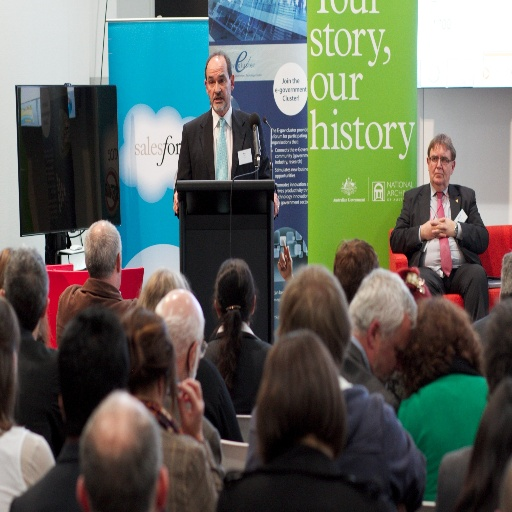hand: (171, 379, 207, 444), (420, 215, 446, 241), (430, 214, 457, 239), (277, 237, 292, 279), (273, 190, 281, 221), (172, 189, 179, 217)
